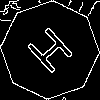H: (25, 25, 82, 83)
